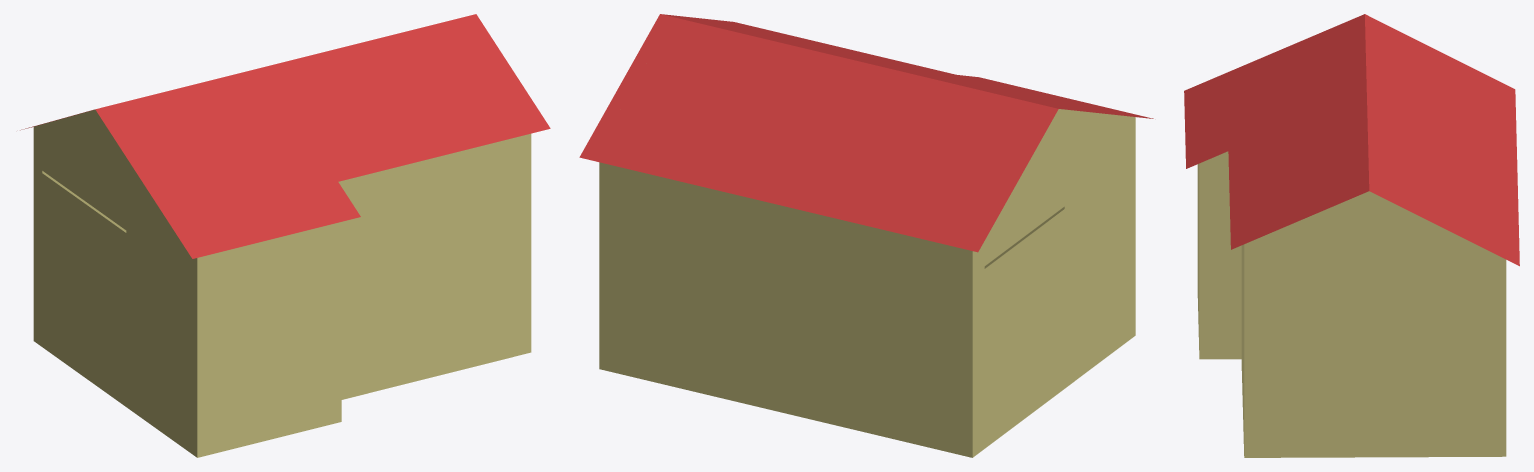
3 renders of one model, left to right at view 1: azimuth 30°, elevation 25°; view 2: azimuth 150°, elevation 25°; view 3: azimuth 270°, elevation 25°, orthographic. The views are drawn at different scales.
Bounding box in the file's own units: 15.74 × 12.51 × 11.18.
